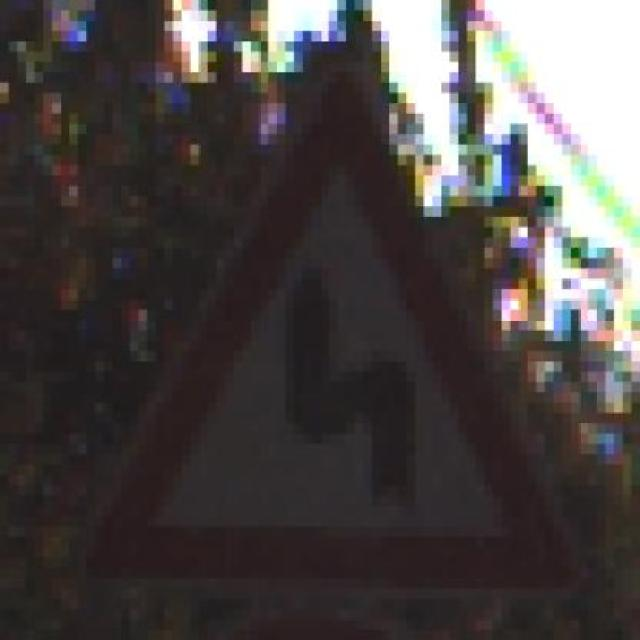Left Zig Zag Traffic: (61, 51, 588, 578)
